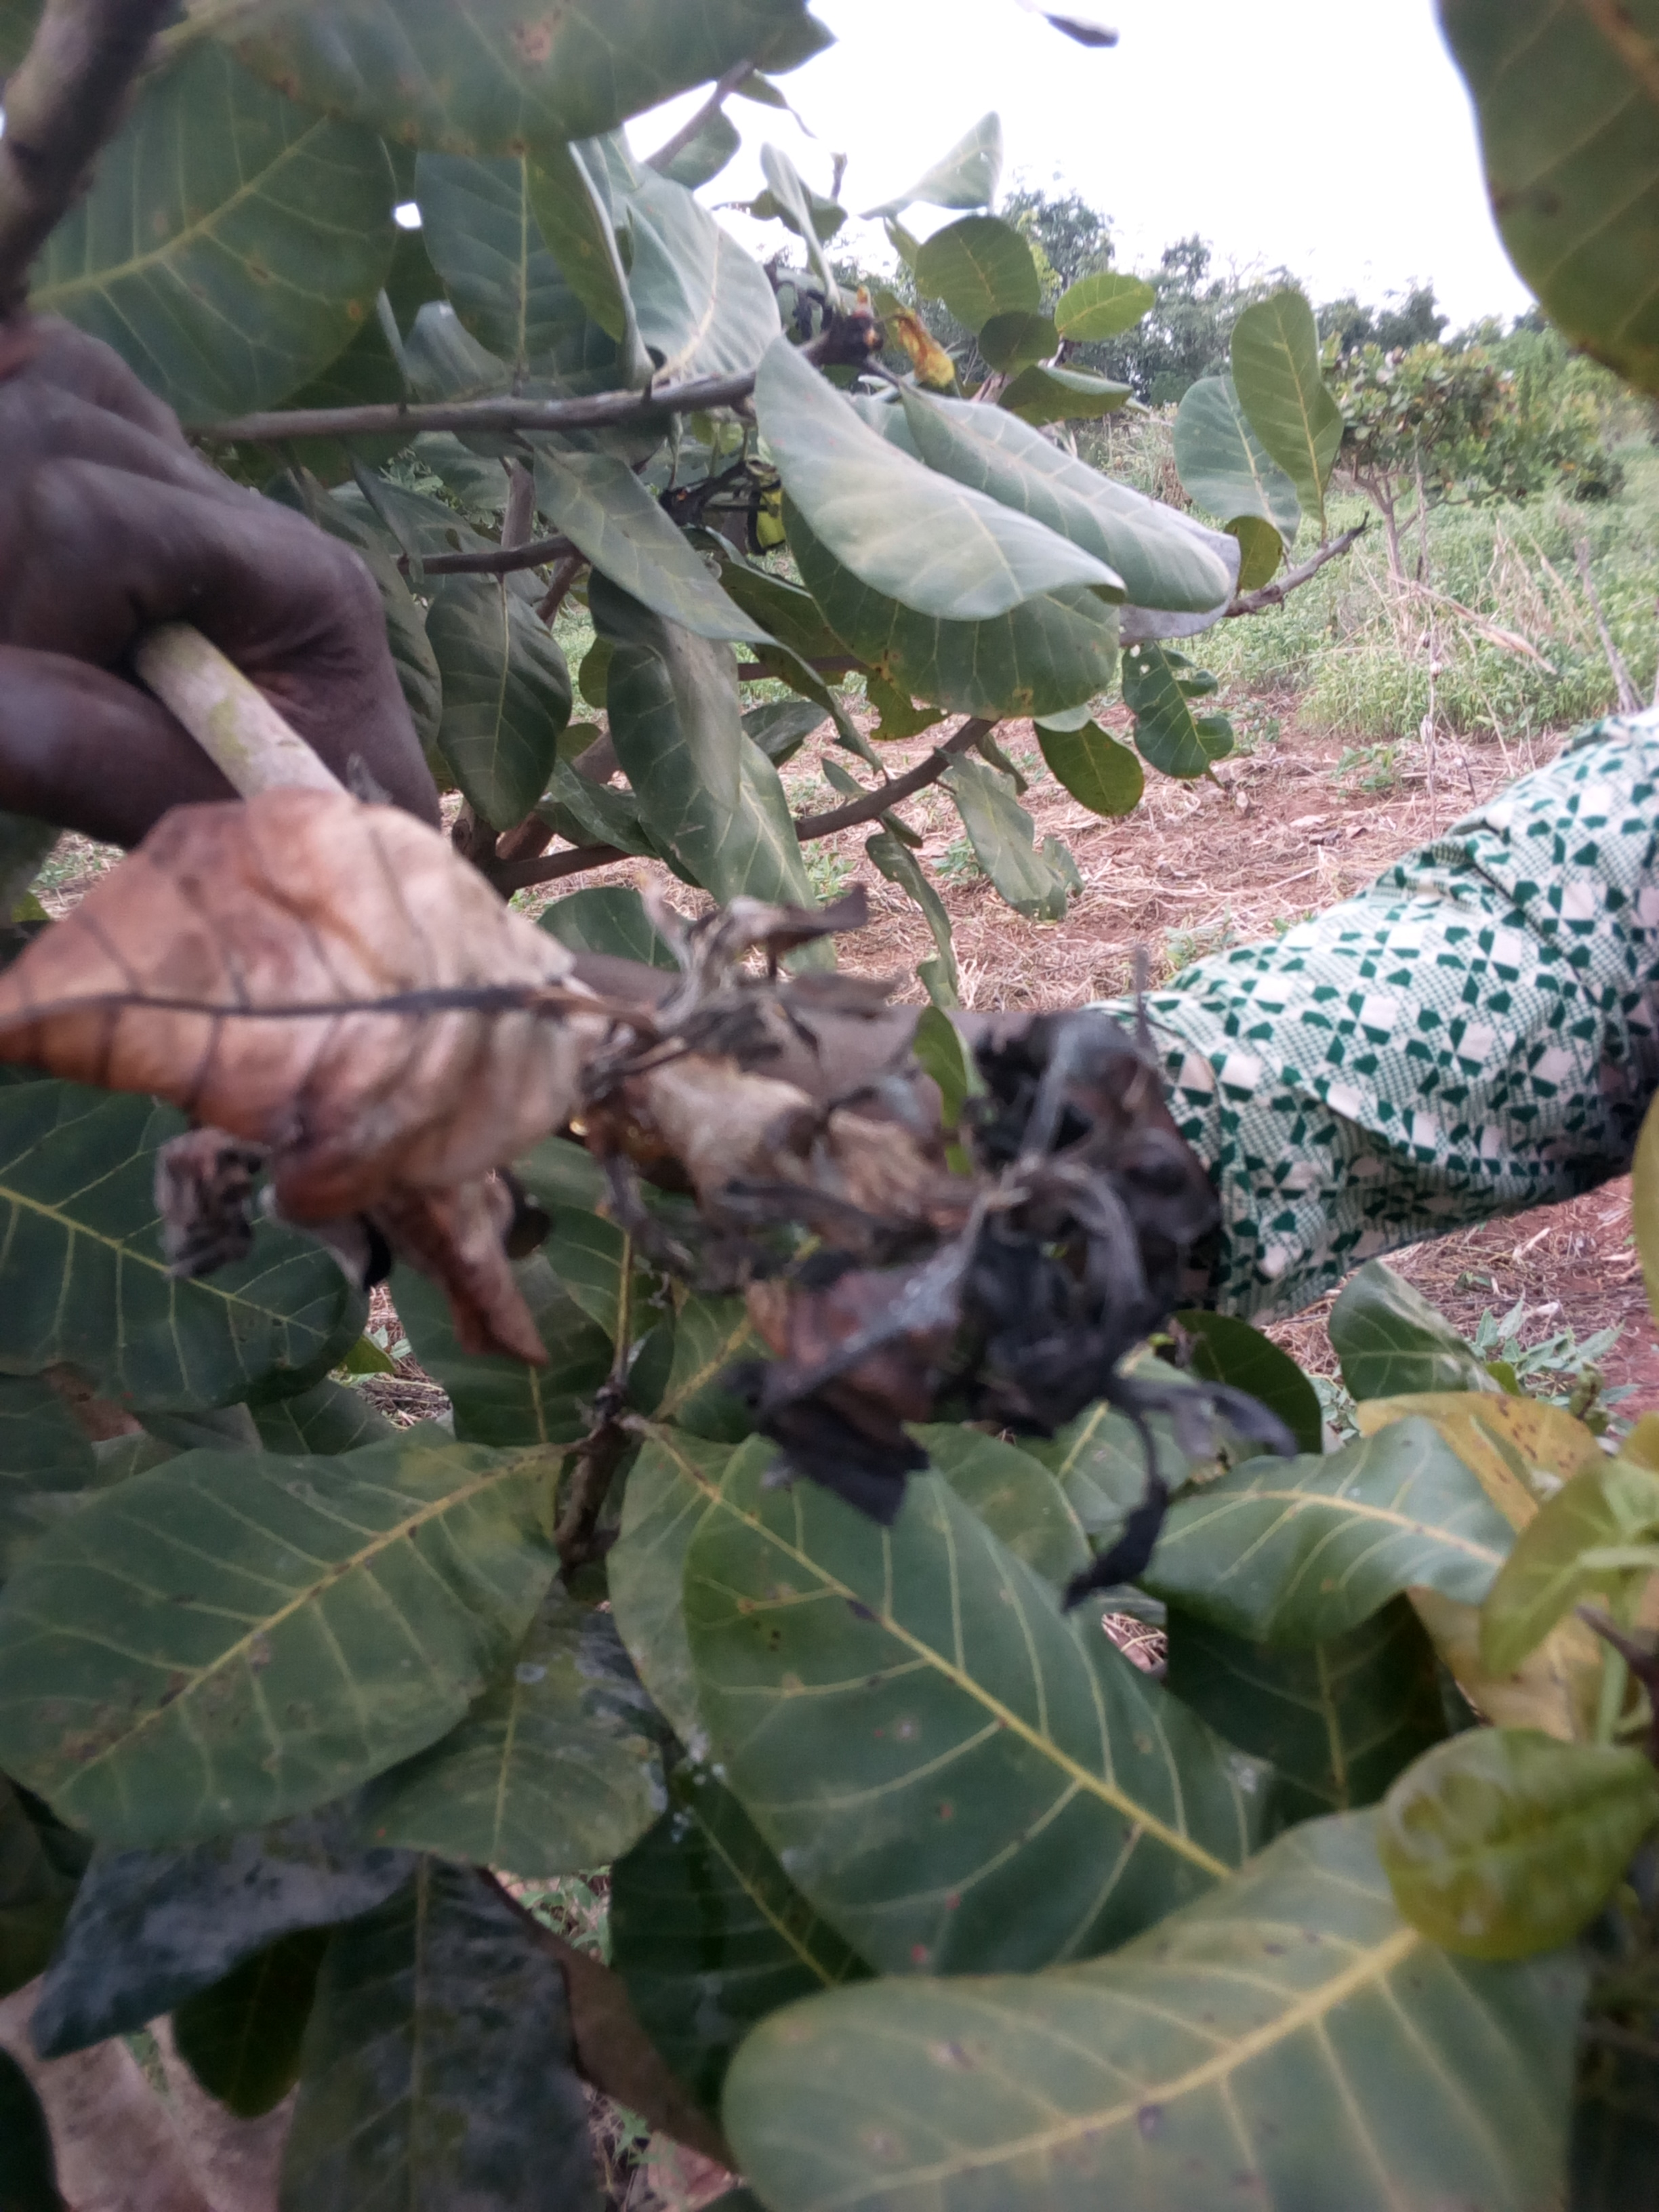Dessèchement des bourgeons: (105, 859, 1270, 1475)
